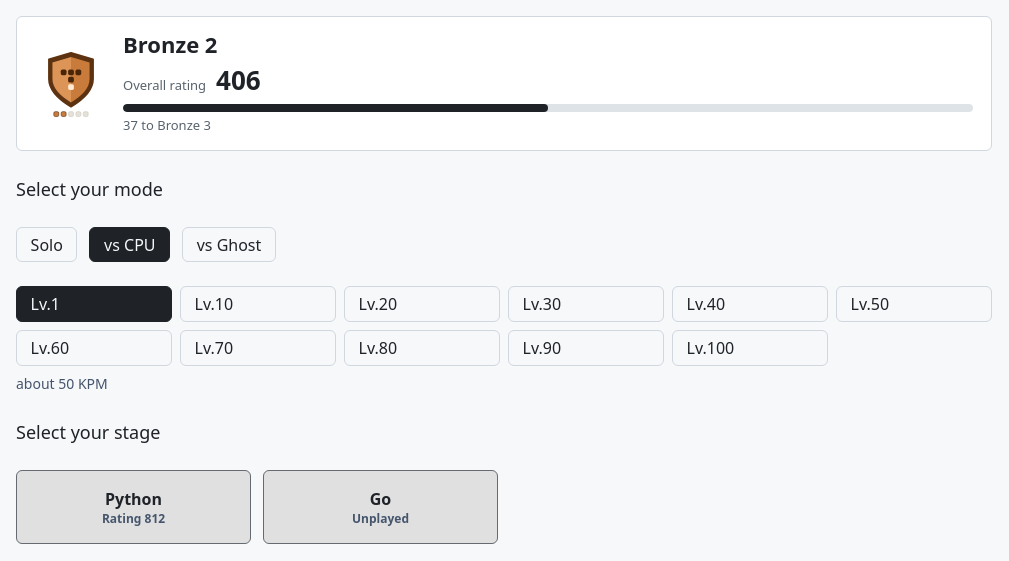
vs Ghost › offers the three periods to race, defaulting to today
Click the button "vs Ghost". click: (229, 245)
box: [182, 227, 276, 262]
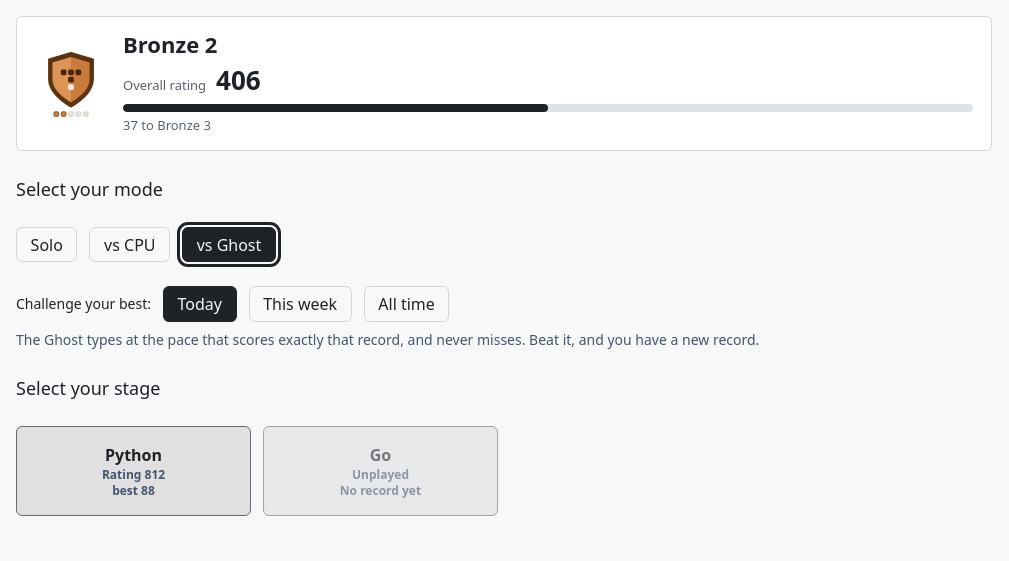
Now the buttons read "Today", "This week", "All time", in this order, box [163, 286, 237, 322]; [249, 286, 352, 322]; [364, 286, 449, 322]
